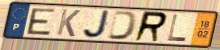D: (107, 10, 140, 41)
E: (26, 8, 58, 37)
J: (81, 9, 112, 40)
K: (55, 8, 83, 38)
L: (166, 14, 188, 43)
R: (132, 10, 169, 43)
